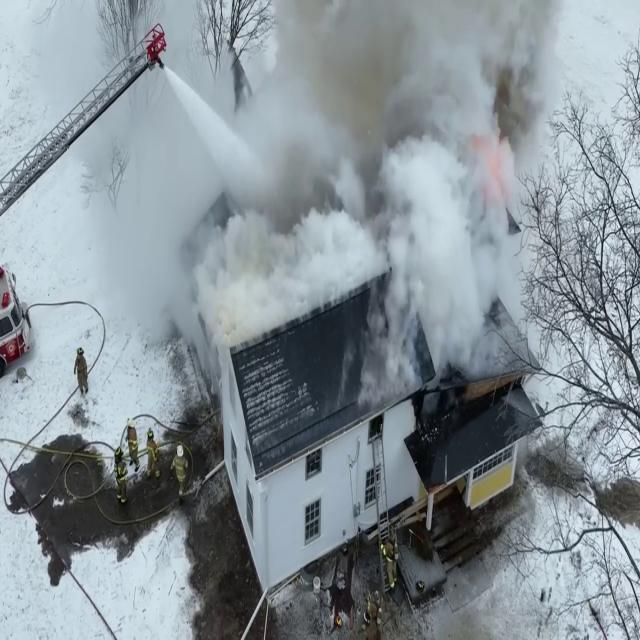Smoke: (33, 0, 570, 387)
